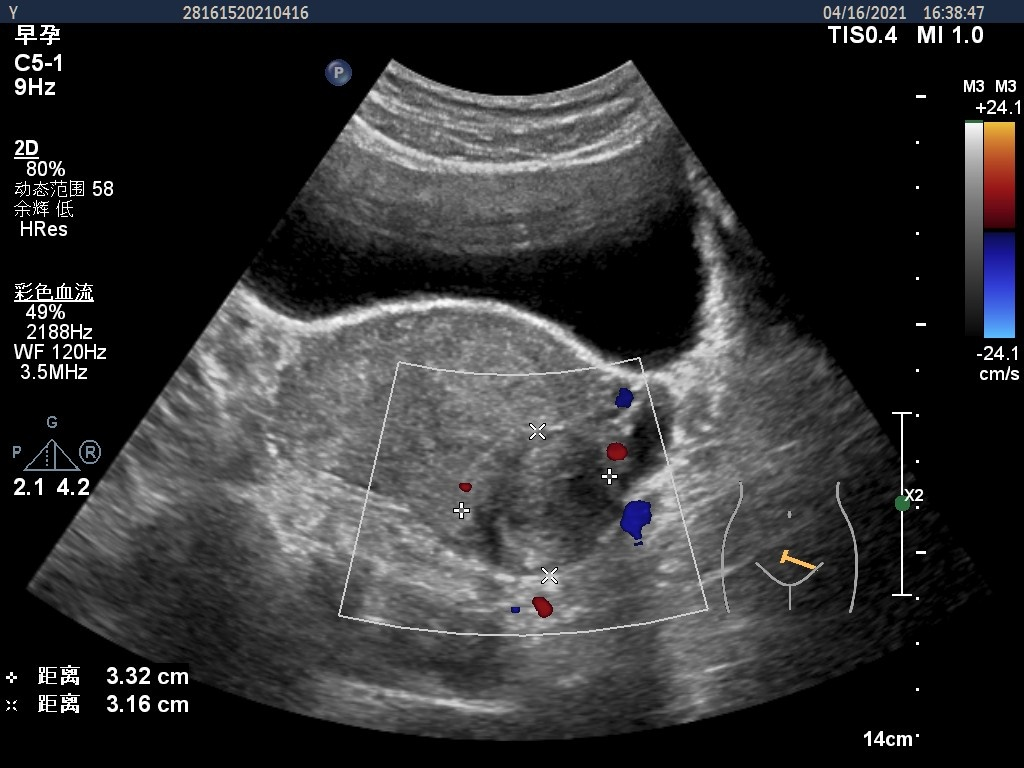肌瘤: (464, 433, 614, 575)
